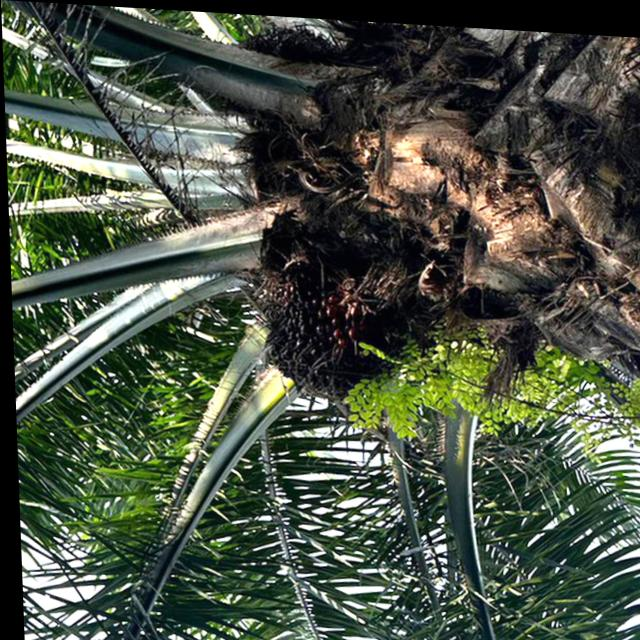unripe: (246, 253, 403, 414)
